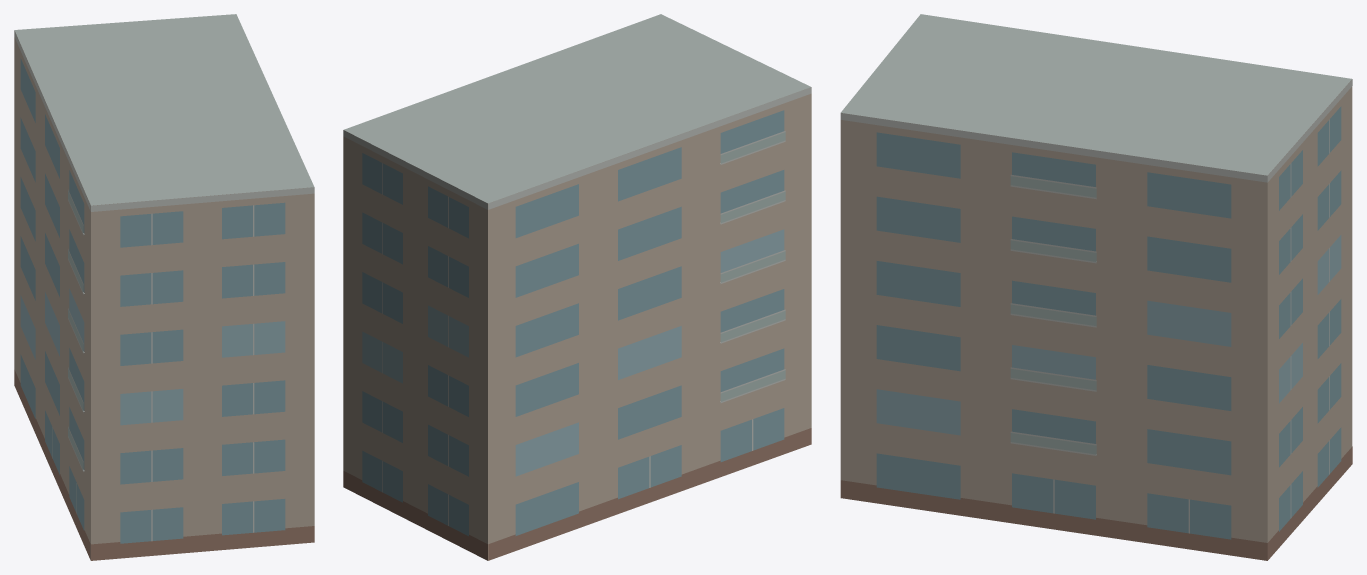
File: survey-upis-32893415.glb
3 renders of one model, left to right at view 1: azimuth 30°, elevation 25°; view 2: azimuth 150°, elevation 25°; view 3: azimuth 270°, elevation 25°, orthographic. The views are drawn at different scales.
Visible parts, largest first — view 1: survey-upis-32893415.tmp; view 2: survey-upis-32893415.tmp; view 3: survey-upis-32893415.tmp.
Boxes of the visible parts, left/top/right/bottom form: survey-upis-32893415.tmp: left=14, top=14, right=314, bottom=560; survey-upis-32893415.tmp: left=343, top=14, right=811, bottom=560; survey-upis-32893415.tmp: left=840, top=14, right=1352, bottom=560.
Bounding box in the file's own units: 12.11 × 13.45 × 16.21.
